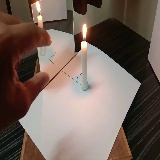fire: (82, 22, 87, 41)
